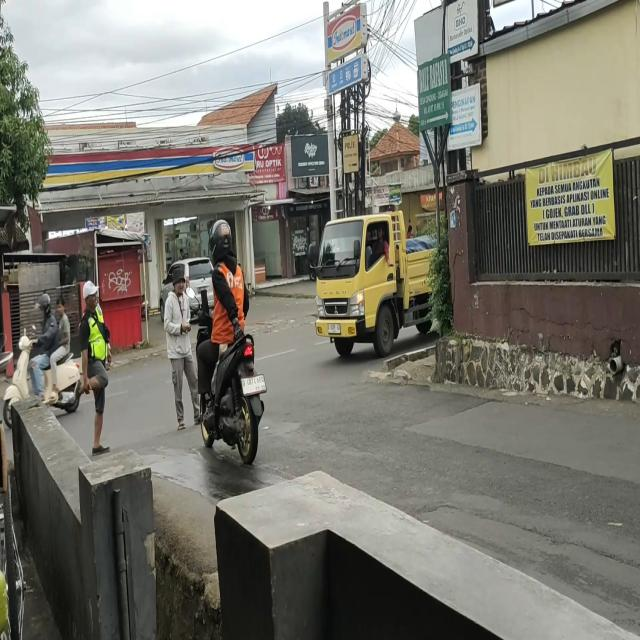helmet: (207, 221, 231, 256), (35, 294, 50, 316)
no-helmet: (57, 297, 64, 317)
